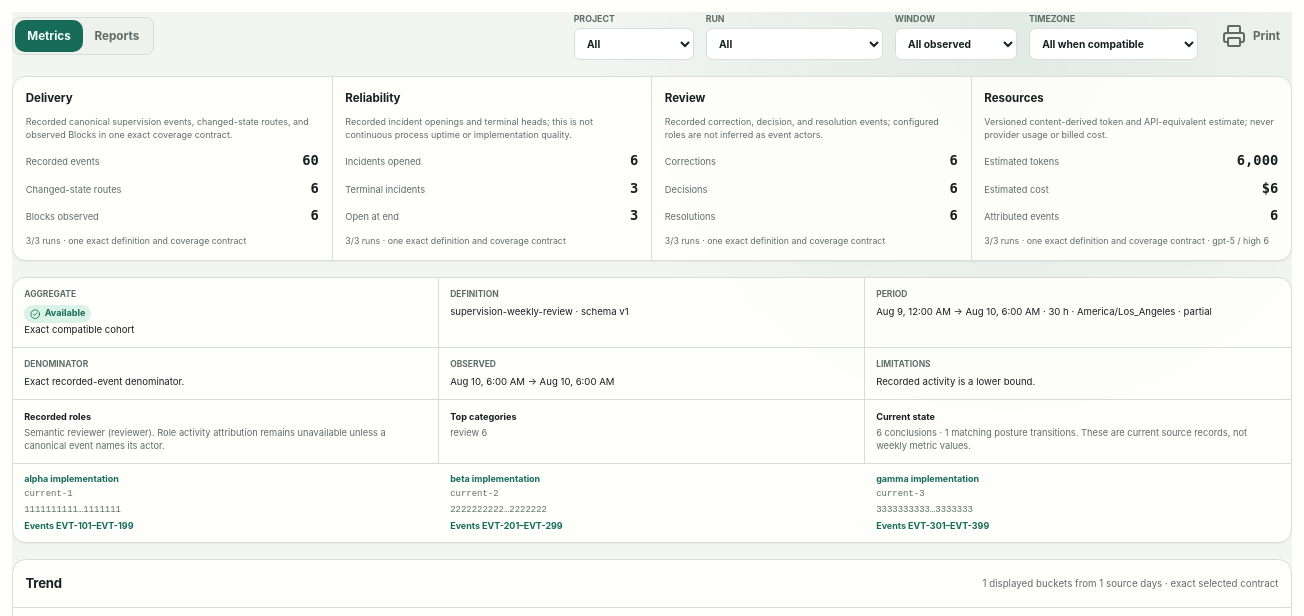
it: metrics and report history workspace › shows decision-grade metric groups and filters three exact project/run projections
The image size is (1304, 616).
Expected: the element "Delivery" shows "60", left=302, top=152, right=319, bottom=168
Expected: the element "Resources" shows "API-equivalent estimate", left=984, top=116, right=1274, bottom=140
Step 1. Select "Beta" in the dropdown labelled "Project" → (634, 44), box left=574, top=28, right=694, bottom=60
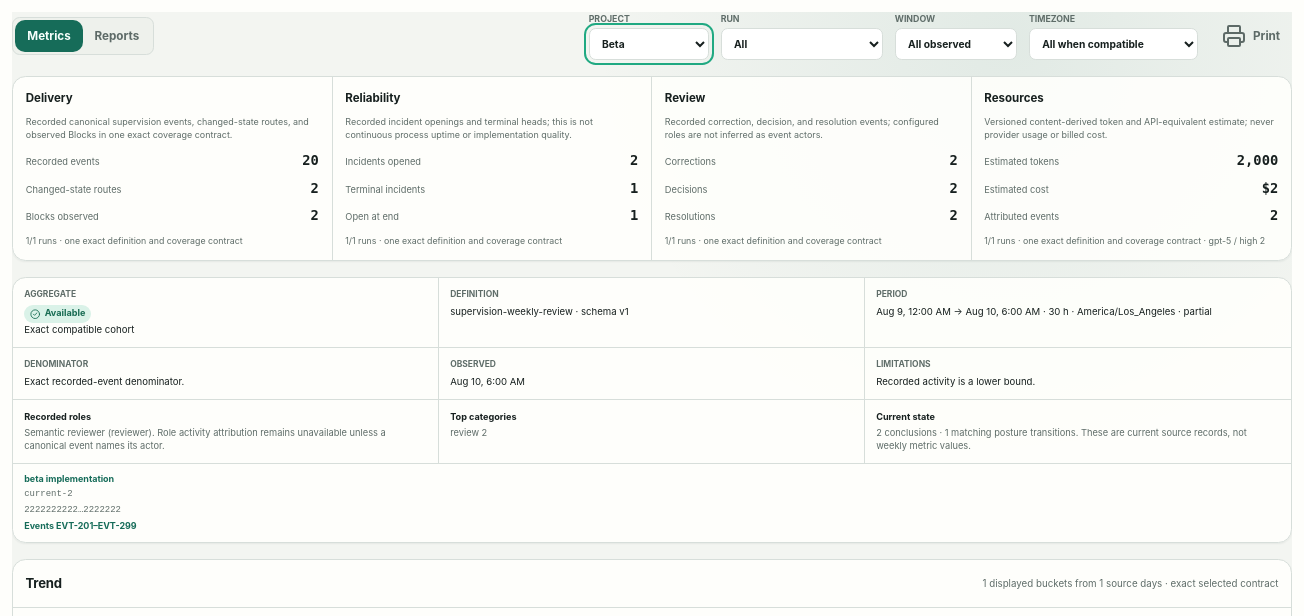
Expected: the link "beta implementation" is shown, left=24, top=473, right=114, bottom=484
Expected: the link "alpha implementation" is gone
